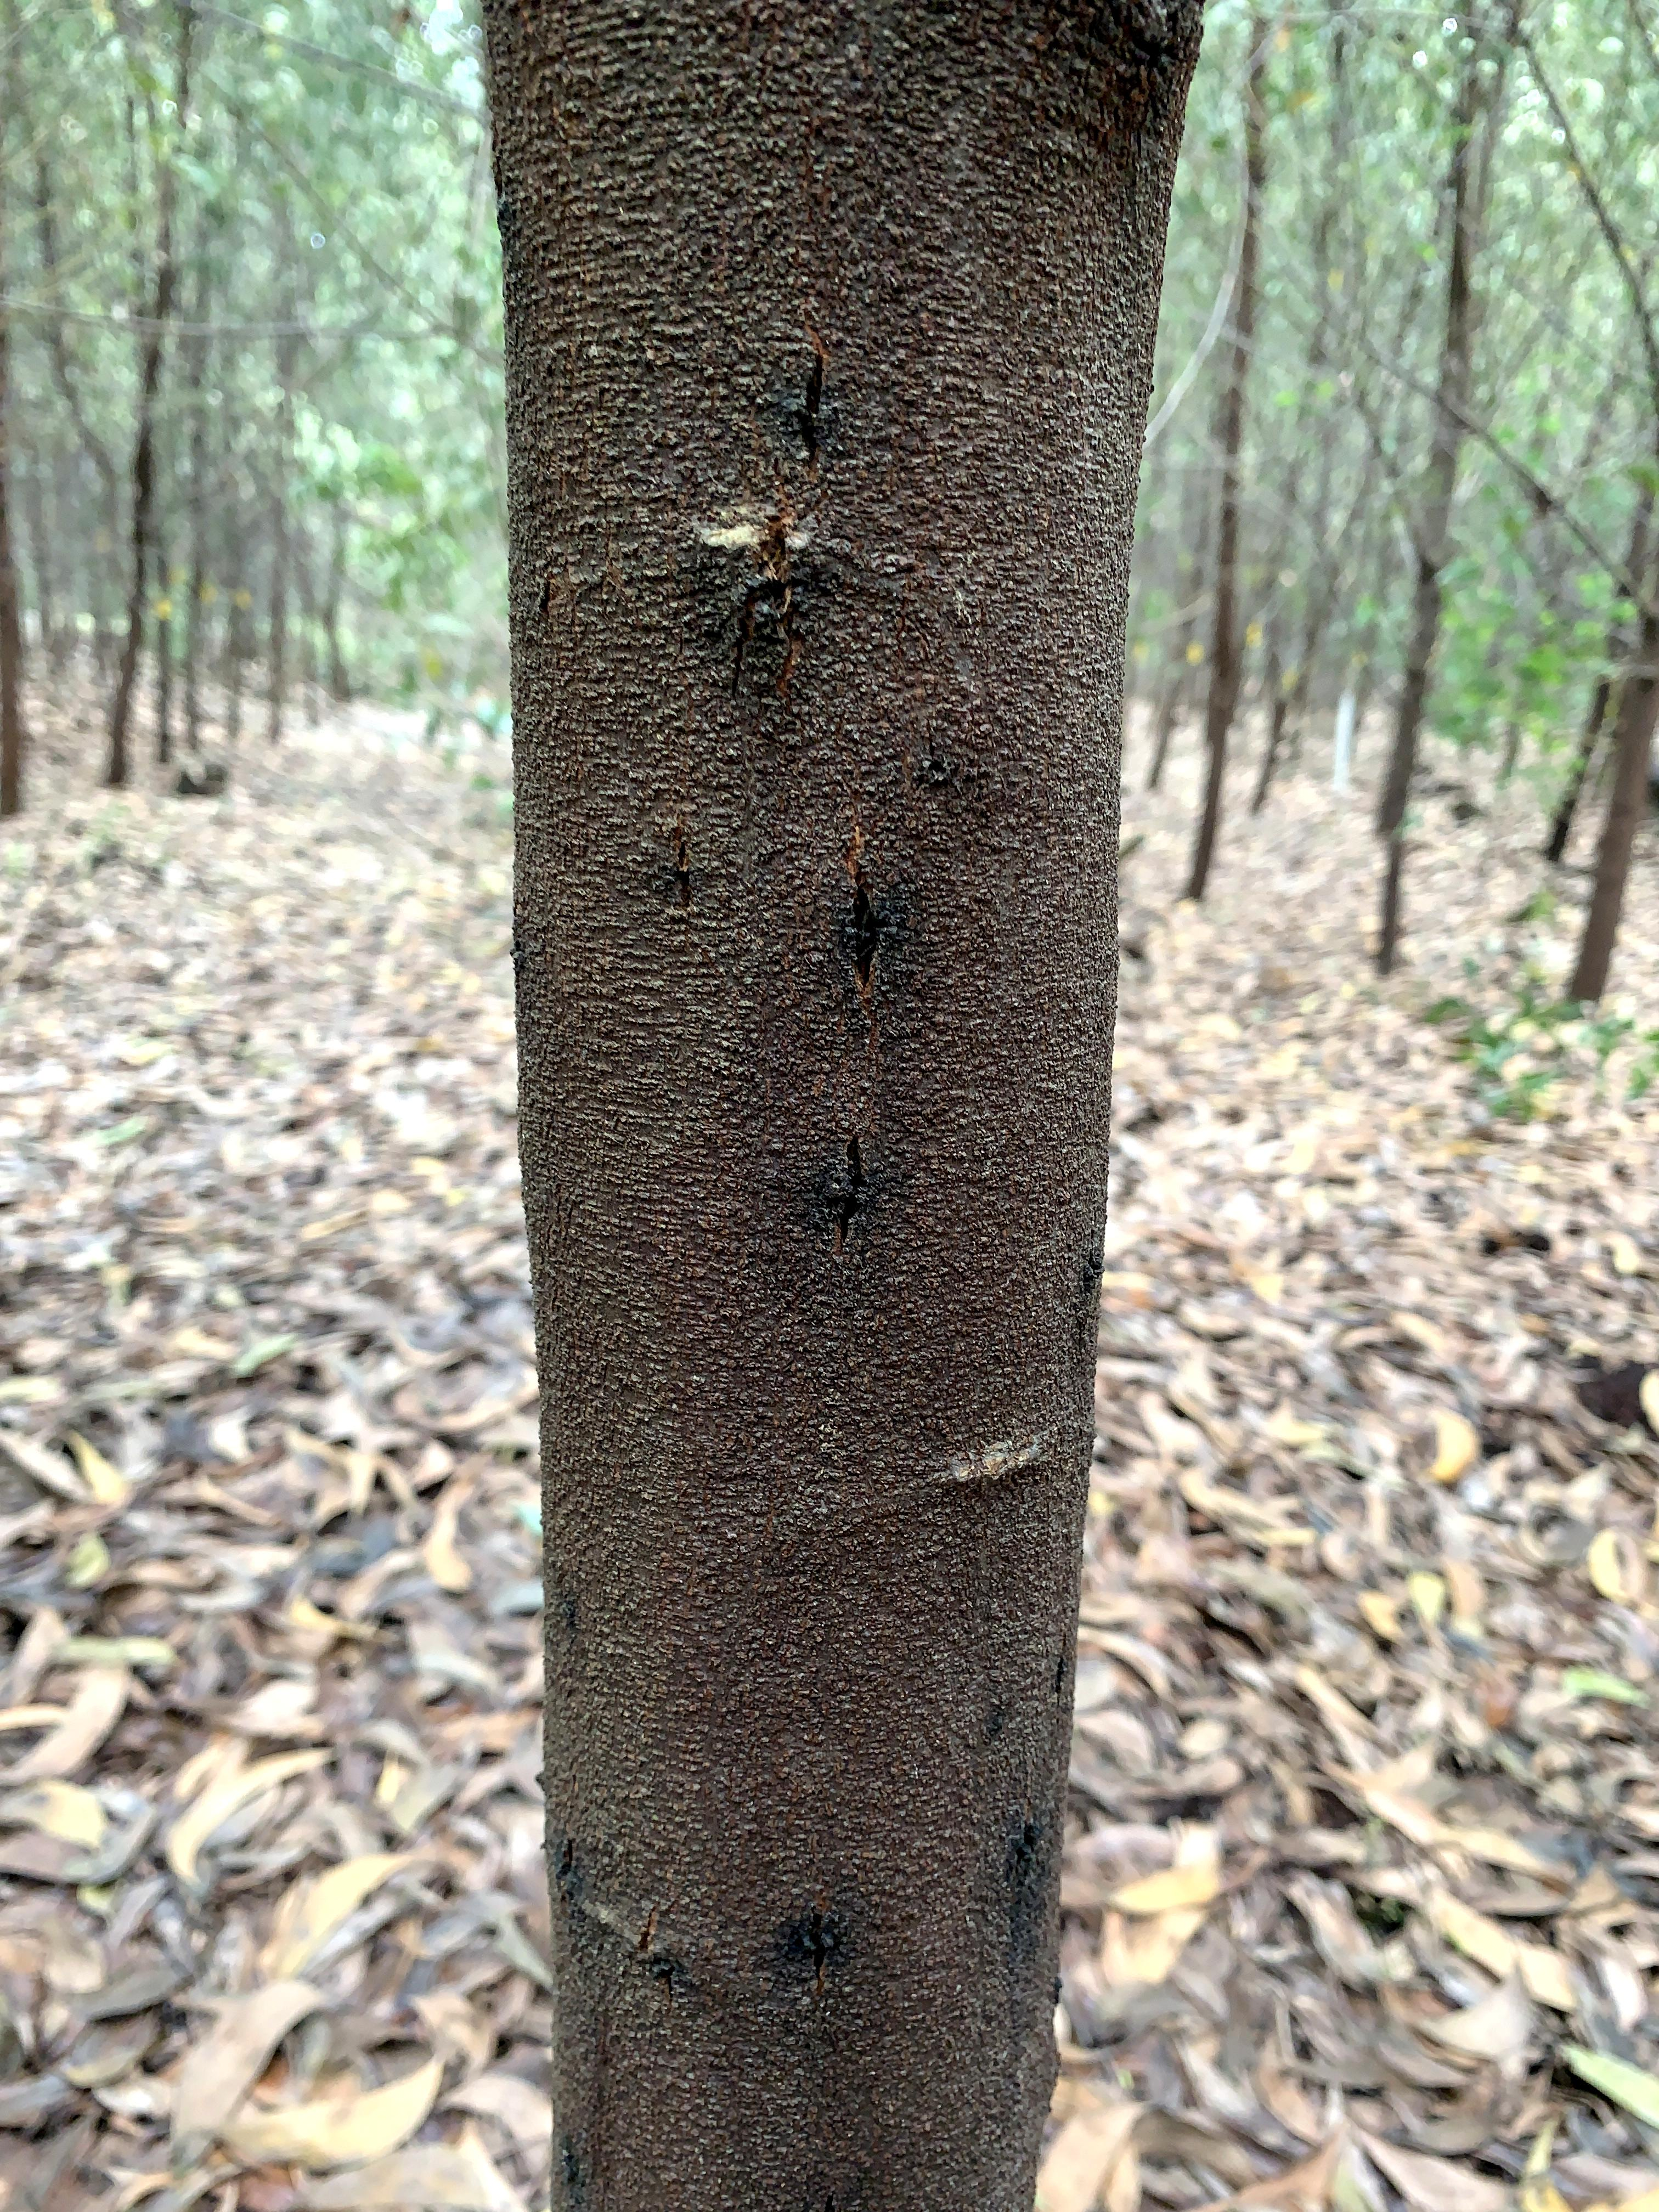Stem Borer: (753, 324, 871, 481), (826, 845, 925, 1012), (723, 509, 805, 678), (810, 1113, 890, 1256), (762, 1888, 864, 1996), (624, 1909, 708, 2038), (979, 1797, 1075, 1902), (652, 812, 730, 916), (545, 1811, 592, 1904)
